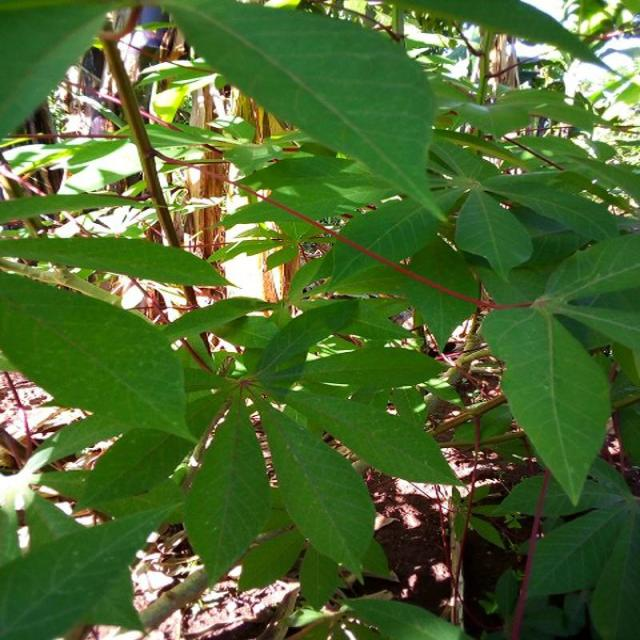cassava leaf: (157, 0, 446, 224), (0, 268, 191, 449), (479, 300, 612, 506)
